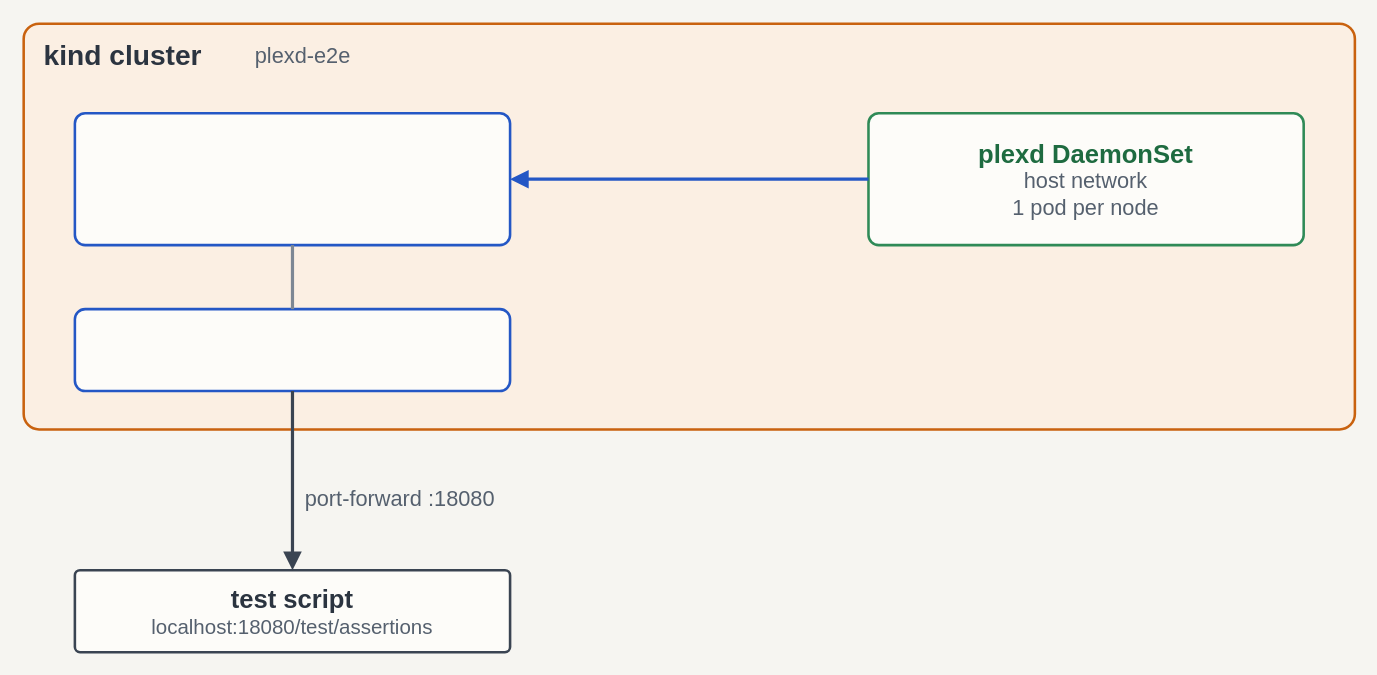
The diagram is 1377 pixels wide and 675 high, and some of its shapes have lost their labels. Here are the shapes that lost their labels. From the top down, the box of each, then its label:
(73, 111, 511, 246): mock-api Deployment :8080 (HTTP) :8443 (TLS)
(73, 307, 511, 392): ClusterIP Service mock-api.plexd-e2e:8080, :8443
